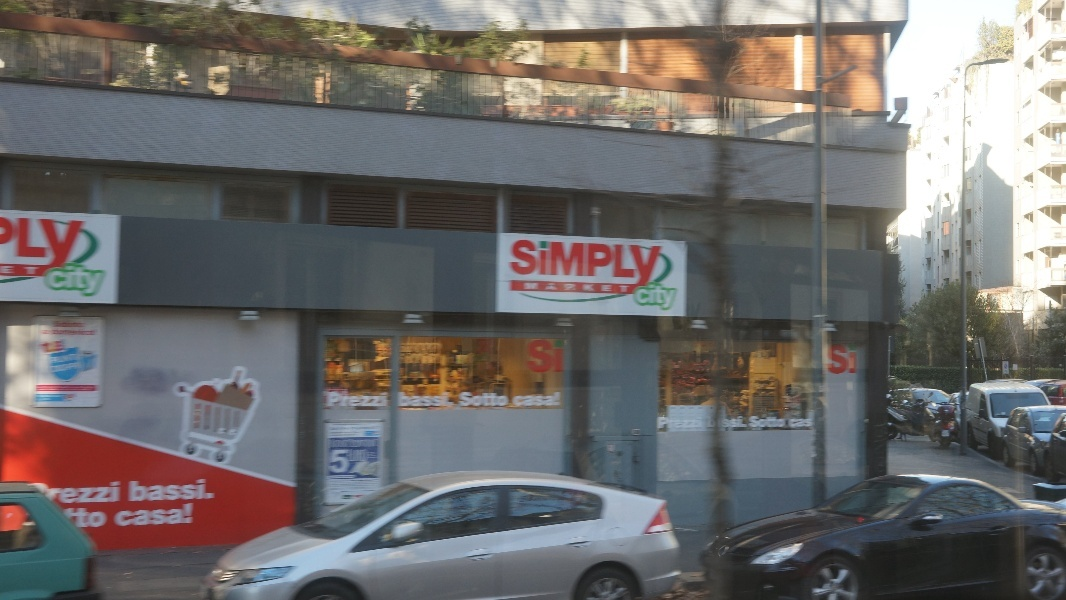text: (17, 215, 32, 270), (33, 215, 48, 270), (49, 215, 64, 270), (65, 215, 80, 270), (513, 238, 528, 288), (529, 238, 544, 288), (545, 238, 560, 288), (561, 238, 576, 288), (577, 238, 592, 288), (593, 238, 608, 288), (609, 238, 624, 288), (625, 238, 640, 288), (641, 238, 656, 288), (49, 263, 64, 299), (65, 263, 80, 299), (81, 263, 96, 299), (529, 338, 544, 374), (545, 338, 560, 374), (97, 263, 111, 299), (833, 343, 848, 376), (657, 238, 666, 288), (337, 448, 353, 475), (641, 284, 656, 312), (657, 284, 672, 312), (129, 502, 144, 529), (145, 502, 160, 529), (161, 502, 176, 529), (177, 502, 192, 529), (114, 502, 128, 529), (49, 480, 64, 505), (65, 480, 80, 505), (81, 480, 96, 505), (97, 480, 112, 505), (129, 478, 144, 503), (145, 478, 160, 503), (161, 478, 176, 503), (177, 478, 192, 503), (193, 478, 208, 503), (81, 507, 96, 531), (49, 352, 64, 375), (65, 352, 80, 375), (337, 426, 352, 449), (353, 426, 368, 449), (97, 507, 110, 531), (849, 343, 858, 376), (81, 215, 86, 270), (337, 391, 352, 409), (353, 391, 368, 409), (369, 391, 384, 409), (401, 392, 416, 409), (417, 392, 432, 409), (433, 392, 448, 409), (465, 391, 480, 408), (481, 391, 496, 408), (513, 391, 528, 408), (529, 391, 544, 408), (545, 391, 560, 408), (369, 426, 380, 449), (113, 480, 123, 505), (70, 507, 80, 531), (497, 391, 511, 408), (353, 449, 368, 464), (657, 416, 672, 431), (673, 416, 688, 431), (673, 284, 681, 312), (561, 338, 567, 374), (689, 416, 703, 431), (721, 416, 736, 430), (325, 391, 336, 409), (826, 343, 832, 376), (633, 284, 640, 312), (706, 416, 720, 430), (17, 264, 32, 277), (753, 415, 768, 428), (769, 415, 784, 428), (329, 448, 336, 475), (328, 426, 336, 449), (2, 264, 16, 277), (209, 478, 216, 503), (13, 215, 16, 270), (529, 283, 544, 294), (545, 283, 560, 294), (561, 283, 576, 294), (577, 283, 592, 294), (593, 283, 608, 294), (609, 283, 624, 294), (737, 416, 748, 430), (369, 449, 379, 464), (801, 417, 814, 428), (788, 417, 800, 428), (43, 480, 48, 505), (65, 321, 80, 329), (49, 329, 64, 337), (65, 329, 80, 337), (81, 329, 96, 337), (457, 391, 464, 408), (45, 263, 48, 299), (33, 264, 41, 277), (449, 392, 455, 409), (52, 321, 64, 329), (193, 502, 196, 529), (521, 283, 528, 294), (347, 449, 352, 464), (385, 391, 389, 409), (526, 338, 528, 374), (396, 392, 400, 409), (625, 283, 631, 294), (40, 329, 48, 337), (561, 391, 564, 408), (511, 238, 512, 288), (81, 352, 83, 375), (81, 321, 86, 329), (749, 415, 752, 428), (785, 415, 787, 428), (127, 478, 128, 503), (511, 391, 512, 408), (97, 329, 98, 337)
